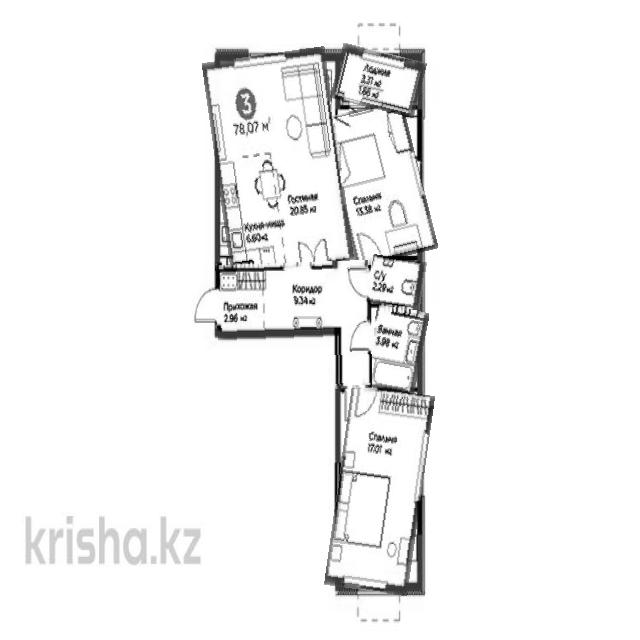balcony: (333, 47, 424, 114)
bathroom: (366, 305, 426, 392), (368, 256, 425, 309)
hallway: (216, 260, 372, 388)
living_room: (331, 387, 429, 594), (328, 103, 429, 264)
studio: (209, 50, 347, 274)
